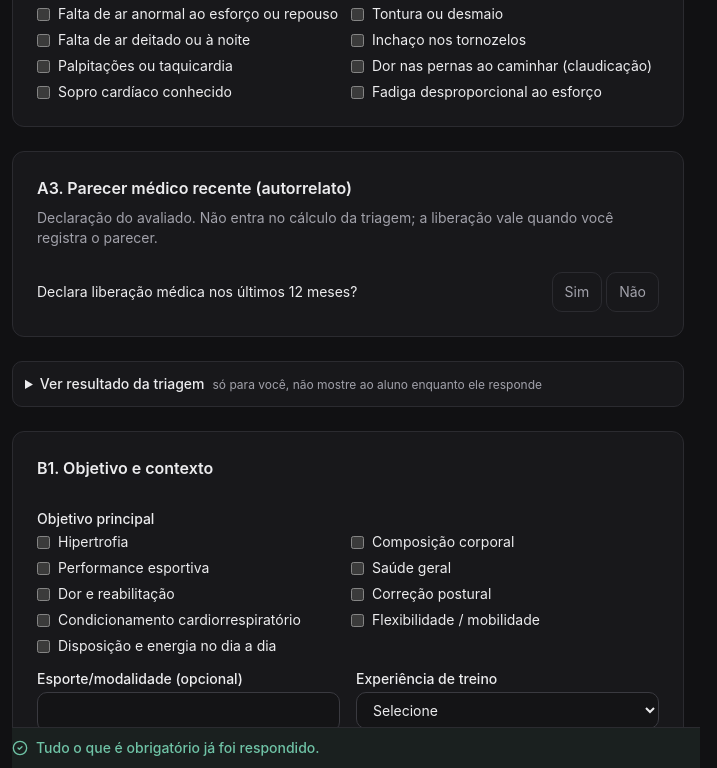
Test case: AnamneseNova — edição › o resultado da triagem não fica aberto enquanto se responde
The width and height of the screenshot is (717, 768).
(page scrolled)
// o conteúdo só é revelado por um clique deliberado de quem prescreve
Click the heading "Ver resultado da triagem" at (291, 384), box [40,375,542,392]
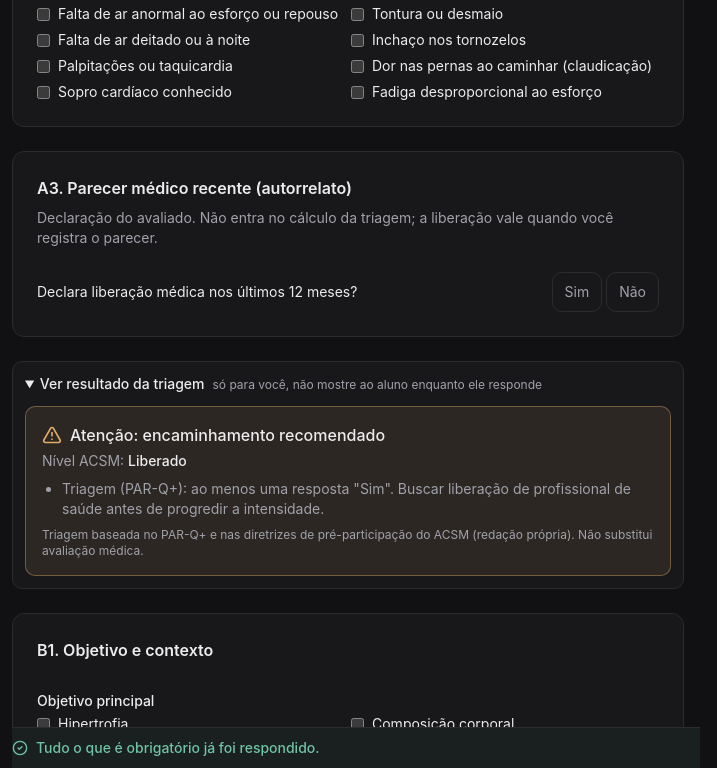
Expected: the text "Atenção: encaminhamento recomendado" is shown, [70,423,385,447]
